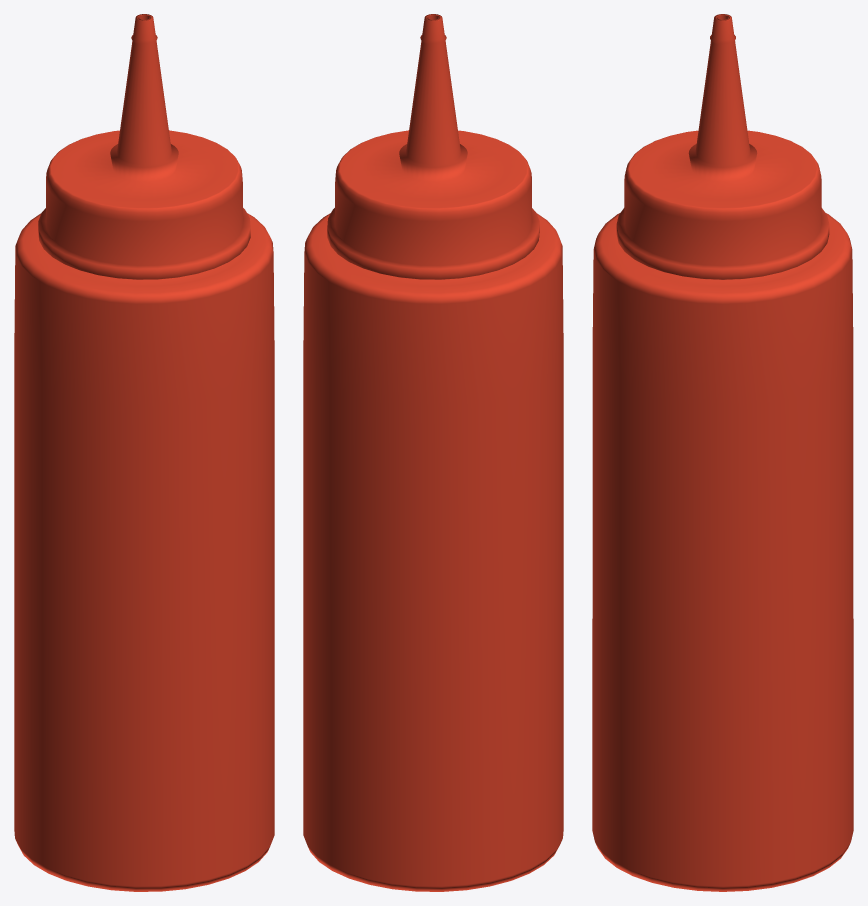
The model's file is ketchup.fbx.
The picture shows the model from 3 angles, left to right: view 1: azimuth 30°, elevation 25°; view 2: azimuth 150°, elevation 25°; view 3: azimuth 270°, elevation 25°; orthographic projection.
Parts seen in each view (by area): view 1: ketchup_bottle; view 2: ketchup_bottle; view 3: ketchup_bottle.
Part boxes in pixels (left/top/right/bottom): ketchup_bottle: left=14, top=14, right=274, bottom=891; ketchup_bottle: left=303, top=14, right=563, bottom=891; ketchup_bottle: left=592, top=14, right=853, bottom=891.
Size of the model in its own units: 1.13 by 3.91 by 1.13.
